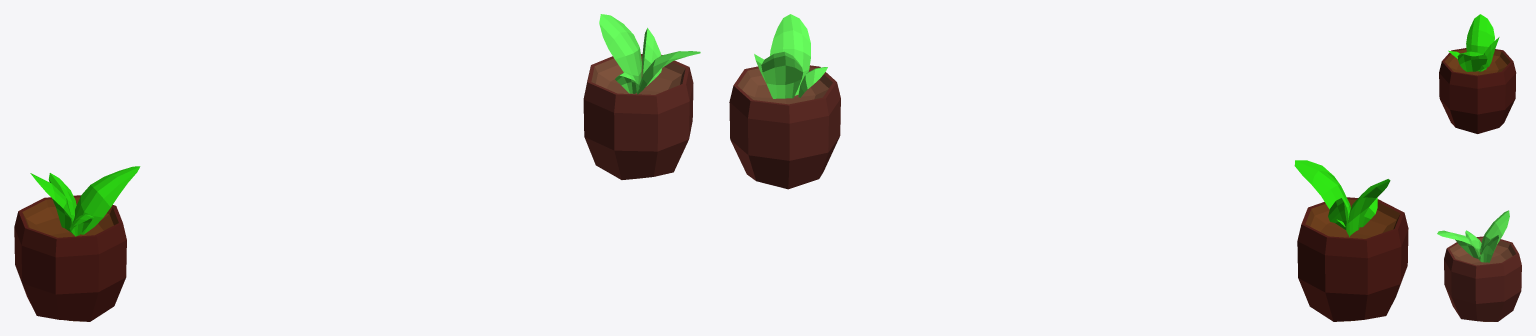
Rendered from Plantas.fbx.
3 views of the same model, side by side, from view 1: azimuth 30°, elevation 25°; view 2: azimuth 150°, elevation 25°; view 3: azimuth 270°, elevation 25° (orthographic). The views are drawn at different scales.
Parts seen in each view (by area): view 1: Planta 1, Planta 2; view 2: Planta 2, Planta 1; view 3: Planta 1, Planta 2.
Boxes of the visible parts, x1=… form: Planta 1: x1=14, y1=166, x2=140, y2=321; Planta 2: x1=583, y1=14, x2=700, y2=179; Planta 2: x1=729, y1=14, x2=840, y2=189; Planta 1: x1=1294, y1=160, x2=1408, y2=321; Planta 1: x1=1439, y1=14, x2=1516, y2=133; Planta 2: x1=1437, y1=210, x2=1521, y2=321.
Size of the model in its own units: 151 by 33.39 by 24.36.
